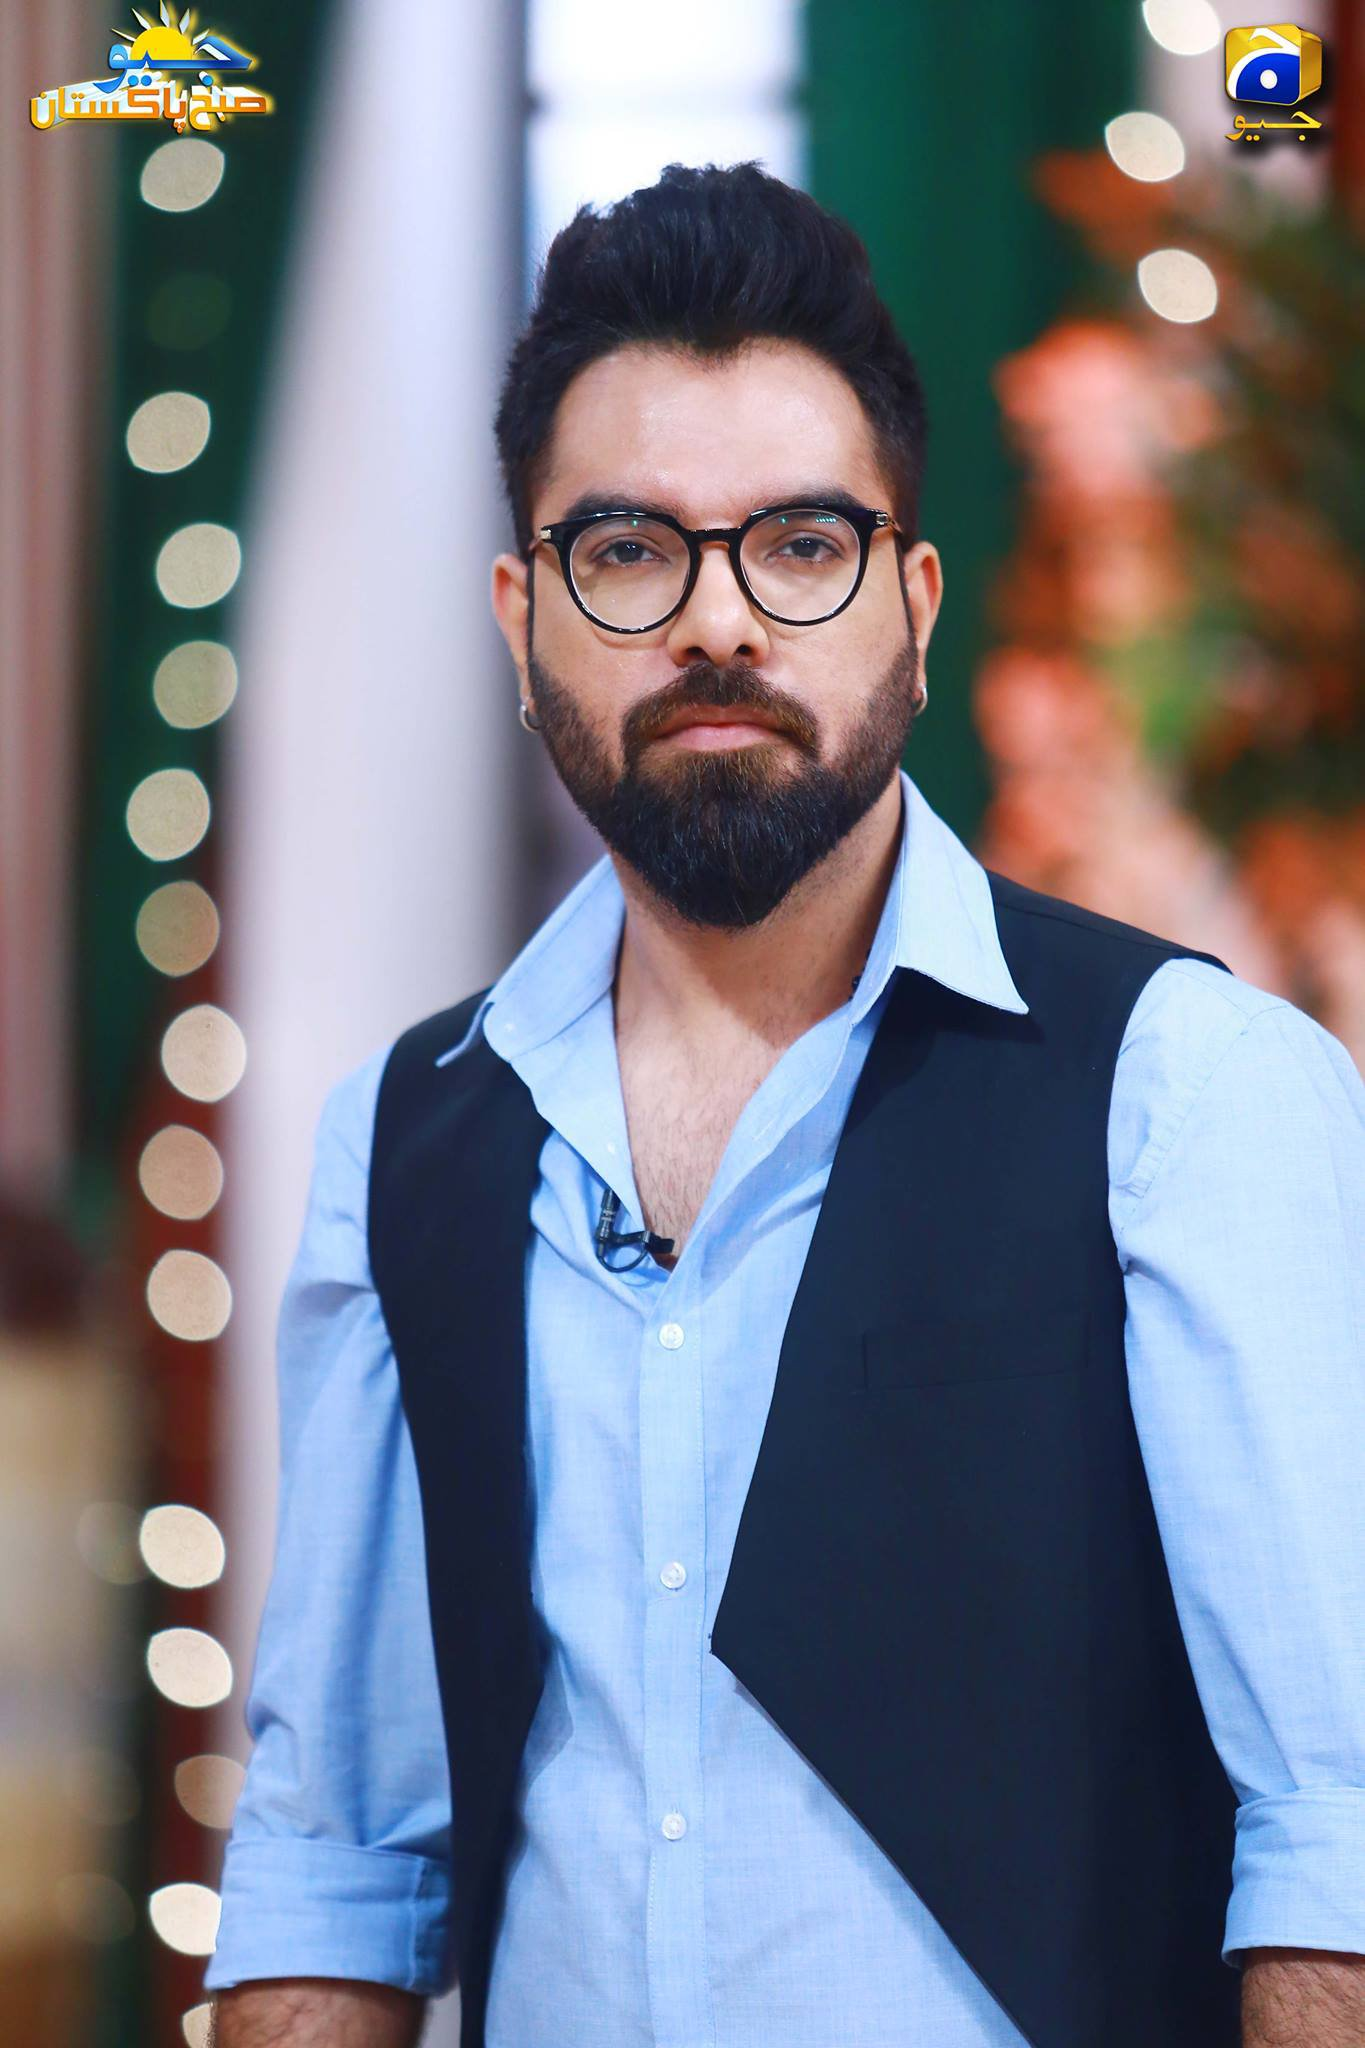noMask: (443, 195, 1035, 984)
